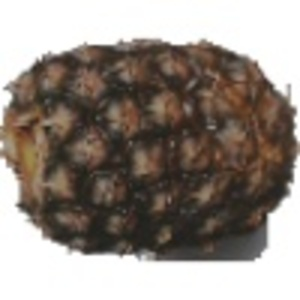abacaxi: (1, 29, 297, 253)
